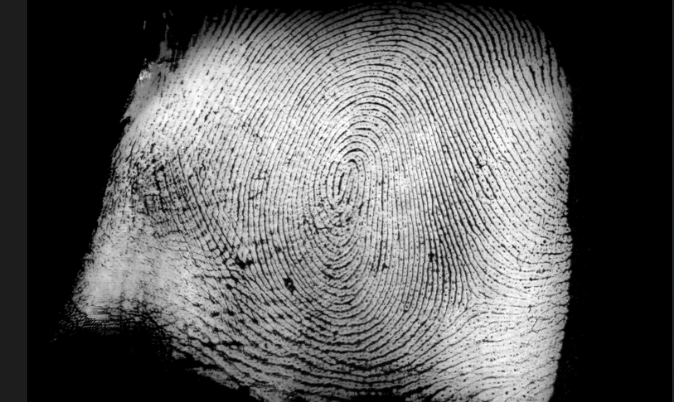nucelo: (334, 154, 369, 208)
verticilo: (229, 243, 258, 276), (456, 281, 485, 309)
